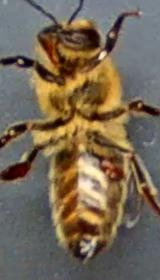varroa_mite: (90, 148, 129, 182)
